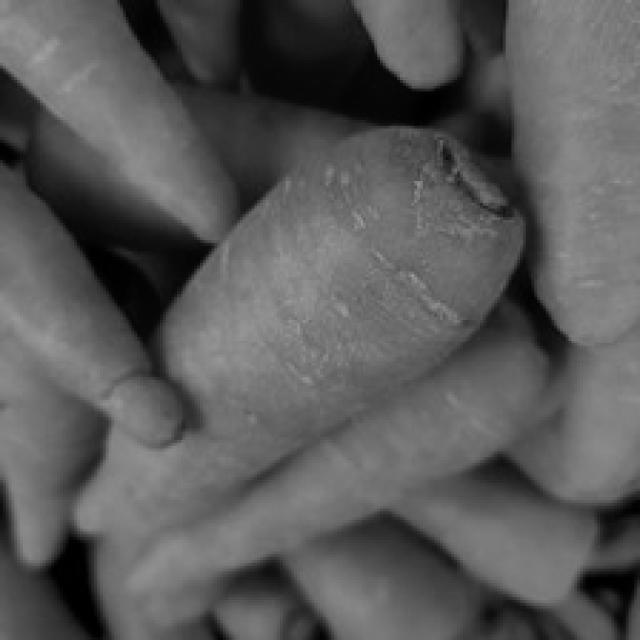Fresh_Carrot: (0, 0, 251, 214), (505, 0, 640, 347), (354, 12, 462, 93)
